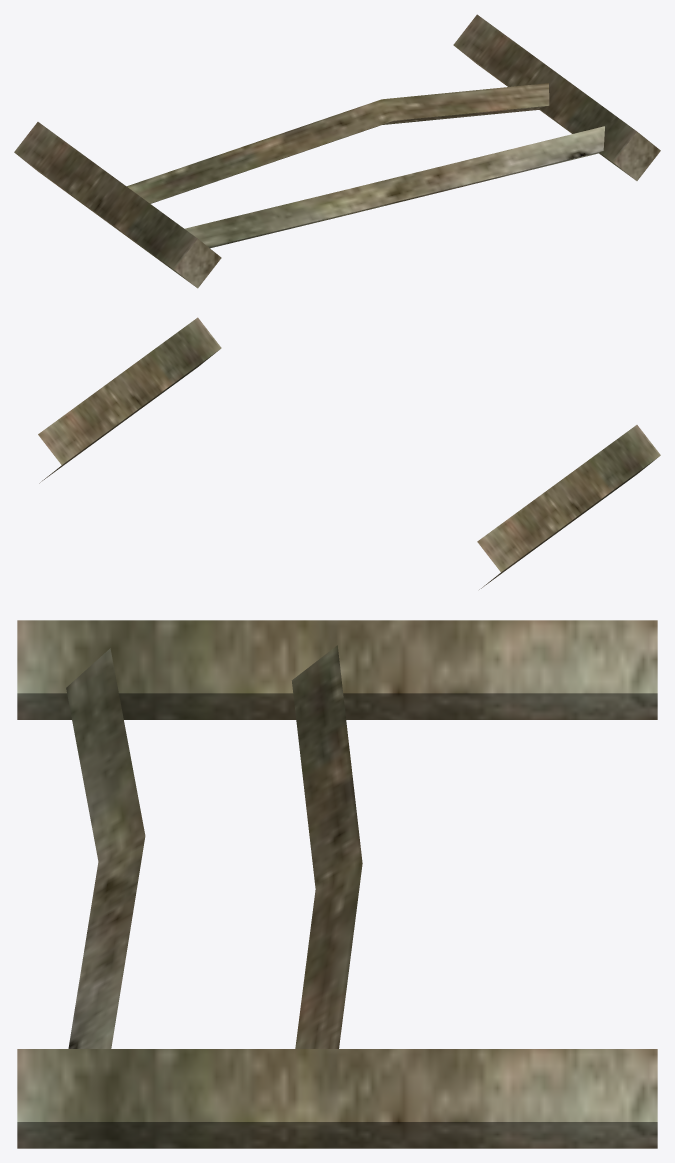
Rendered from Fence01.glb.
3 renders of one model, top to bottom at view 1: azimuth 30°, elevation 25°; view 2: azimuth 150°, elevation 25°; view 3: azimuth 270°, elevation 25°, orthographic. The views are drawn at different scales.
Parts seen in each view (by area): view 1: model_Fence01; view 2: model_Fence01; view 3: model_Fence01.
Boxes of the visible parts, x1=… form: model_Fence01: x1=14, y1=14, x2=660, y2=288; model_Fence01: x1=38, y1=317, x2=660, y2=589; model_Fence01: x1=17, y1=620, x2=657, y2=1148.
Bounding box in the file's own units: 1.78 × 0.2101 × 1.01.
1 material, 1 textured.
